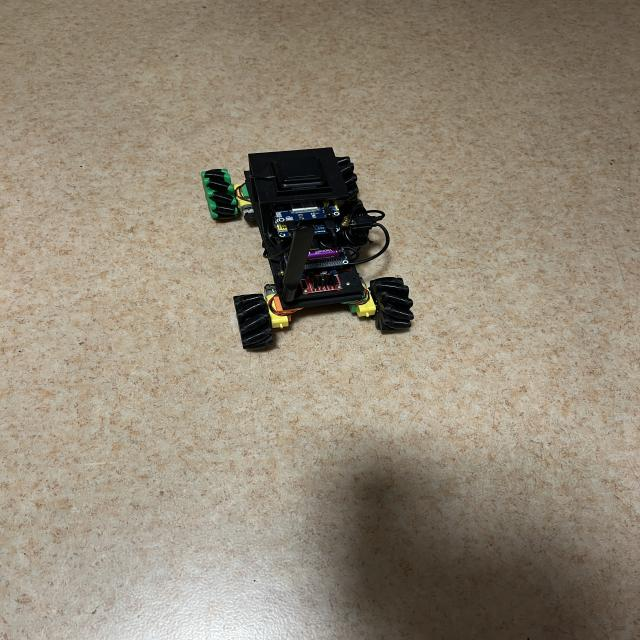robot: (201, 148, 414, 350)
